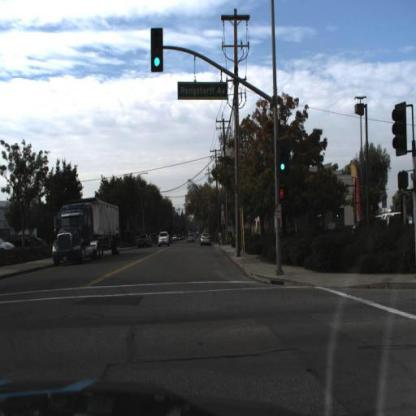car: (157, 229, 172, 247), (201, 230, 215, 247)
trafficLight-Green: (152, 27, 166, 73), (278, 142, 288, 176)
truck: (52, 196, 122, 266), (51, 201, 127, 264)
